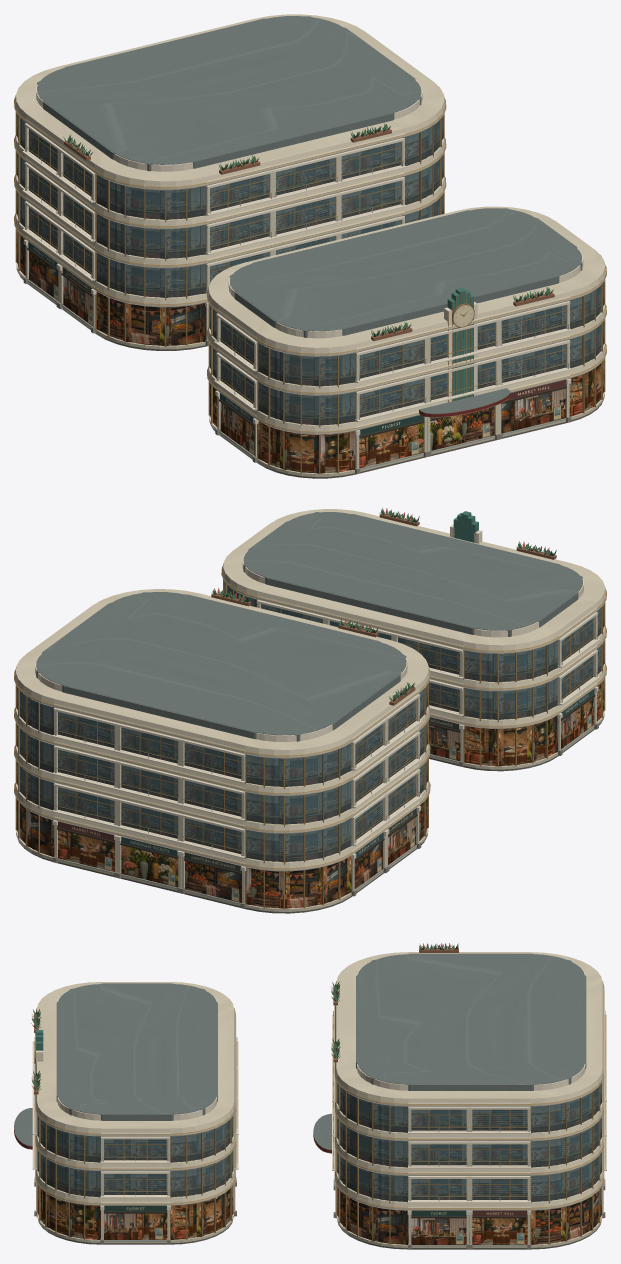
Rendered from ExchangeCourt.fbx.
The picture shows the model from 3 angles, top to bottom: view 1: azimuth 30°, elevation 25°; view 2: azimuth 150°, elevation 25°; view 3: azimuth 270°, elevation 25°; orthographic projection. The views are drawn at different scales.
Visible parts, largest first — view 1: ExchangeCourt Close, ExchangeCourt Horizon, ExchangeCourt Street; view 2: ExchangeCourt Close, ExchangeCourt Horizon, ExchangeCourt Street; view 3: ExchangeCourt Close, ExchangeCourt Horizon, ExchangeCourt Street.
Boxes of the visible parts, x1,y1,x2,y2 form: ExchangeCourt Close: (14, 14, 606, 478); ExchangeCourt Horizon: (16, 16, 604, 473); ExchangeCourt Street: (16, 14, 603, 473); ExchangeCourt Close: (14, 508, 606, 913); ExchangeCourt Horizon: (16, 512, 604, 908); ExchangeCourt Street: (17, 508, 604, 908); ExchangeCourt Close: (14, 943, 606, 1249); ExchangeCourt Horizon: (15, 953, 603, 1244); ExchangeCourt Street: (14, 943, 601, 1243).
Size of the model in its own units: 3188 by 1522 by 5150.
